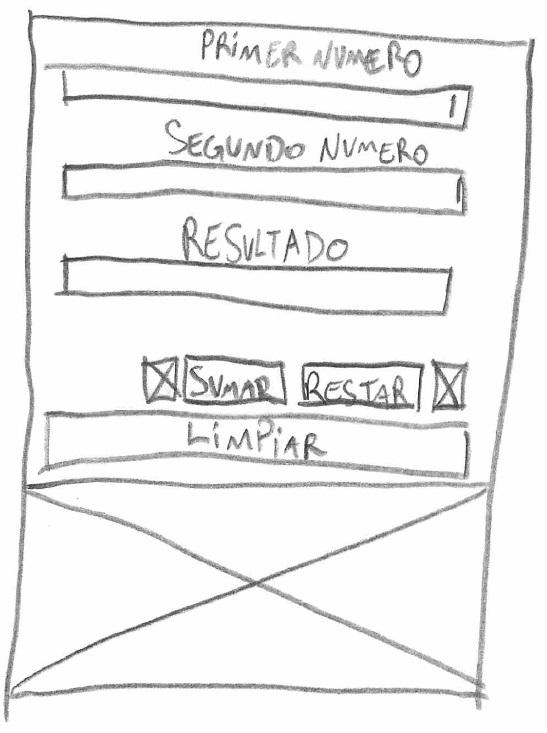Button: (46, 409, 470, 478), (298, 362, 425, 409), (183, 355, 288, 404)
Image: (6, 480, 495, 700), (432, 360, 467, 412), (142, 356, 179, 403)
Label: (165, 120, 429, 166), (201, 28, 422, 79), (183, 216, 348, 265)
Screen: (2, 15, 534, 703)
TextBox: (63, 63, 474, 132), (62, 255, 453, 317), (63, 160, 467, 216)
